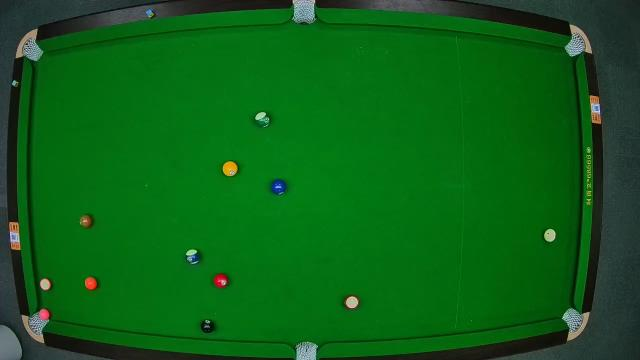bag1: (21, 40, 43, 62)
bag2: (292, 2, 318, 24)
bag3: (565, 31, 587, 56)
bag4: (28, 308, 50, 336)
bag5: (294, 340, 320, 360)
bag6: (562, 306, 584, 332)
ball0: (545, 228, 557, 243)
ball1: (221, 160, 239, 178)
ball11: (346, 296, 358, 310)
ball12: (40, 278, 52, 290)
ball14: (255, 112, 271, 128), (220, 268, 222, 272)
ball2: (271, 178, 287, 196)
ball3: (214, 274, 228, 290)
ball4: (38, 308, 51, 322)
ball5: (84, 277, 98, 291)
ball7: (79, 214, 93, 228)
ball8: (201, 318, 215, 334)
